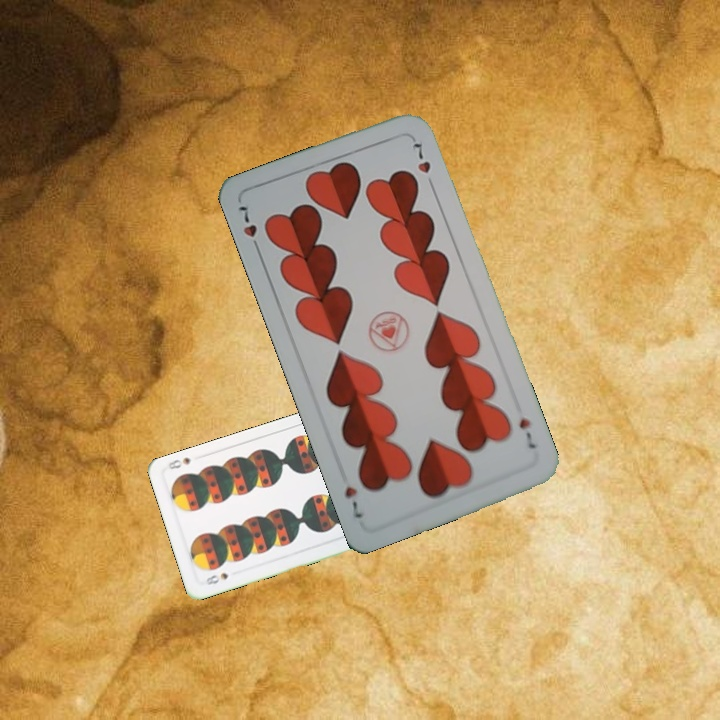H7: (234, 201, 264, 256), (514, 414, 539, 451)
S8: (199, 569, 231, 588)
